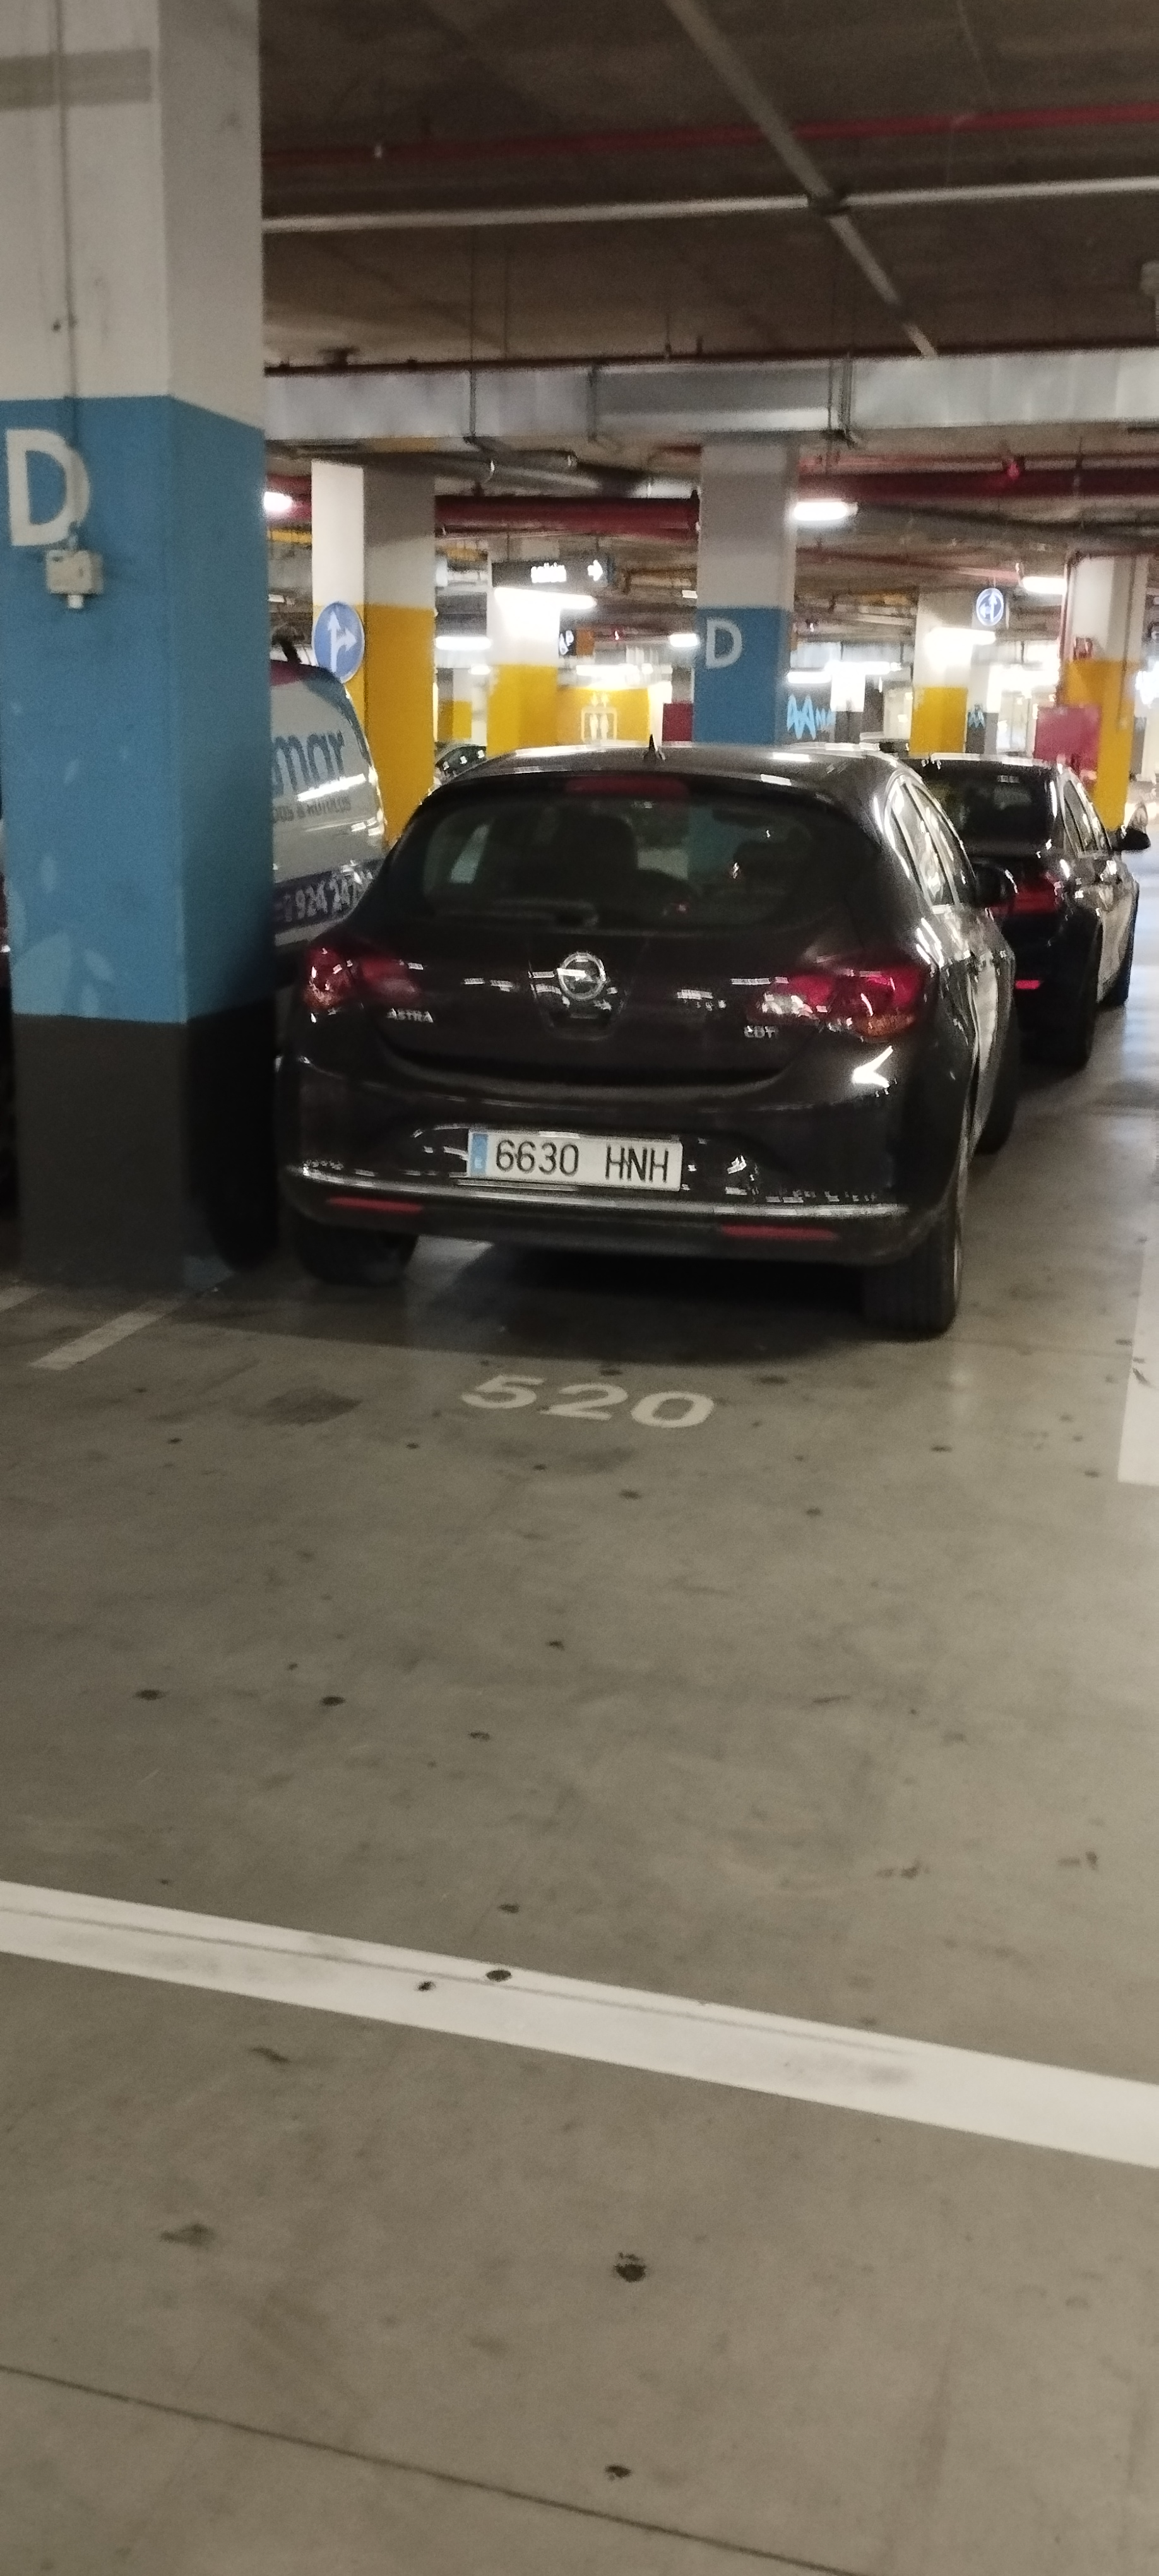Car: (277, 751, 1004, 1340)
Plate: (469, 1123, 682, 1181)
